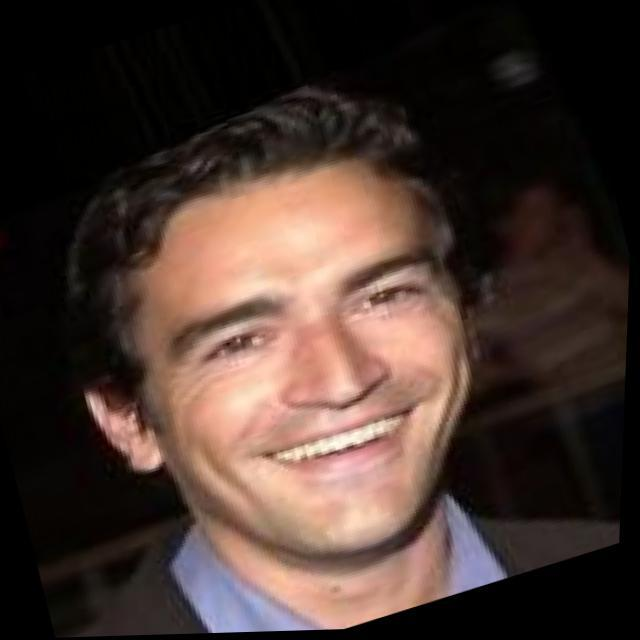Nonhelmet: (50, 69, 515, 567)
